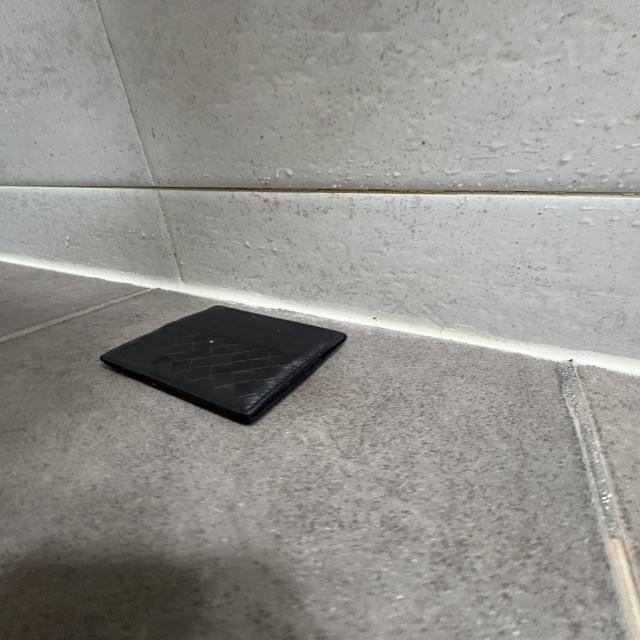wallet: (100, 303, 348, 428)
